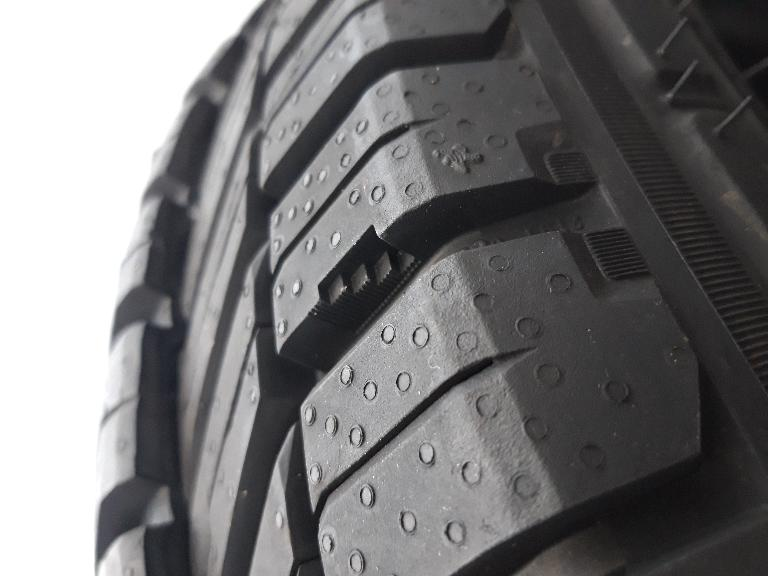temoin:100: (303, 221, 426, 342)
